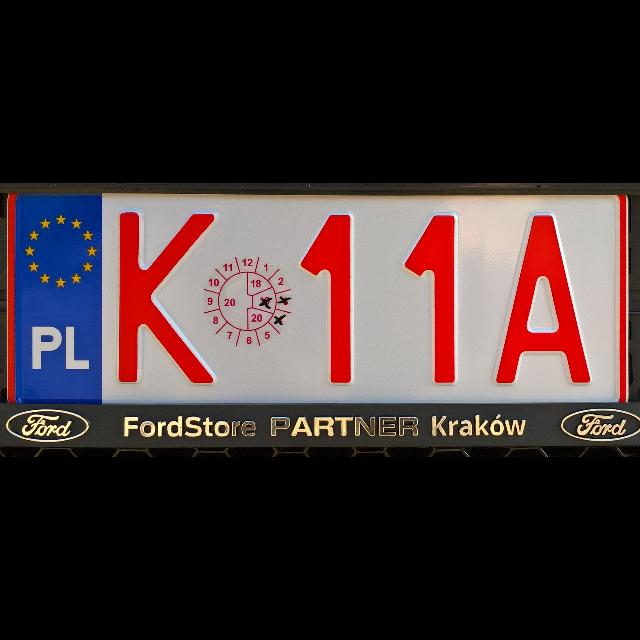pl_license_plate: (8, 194, 626, 400)
